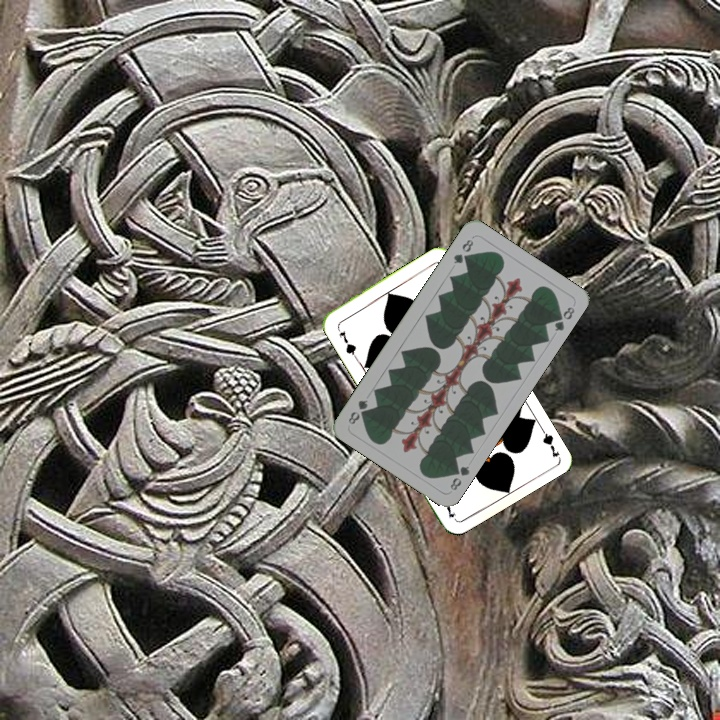G7: (535, 421, 562, 460), (333, 323, 359, 360)
G8: (446, 460, 472, 493), (449, 235, 476, 266)
